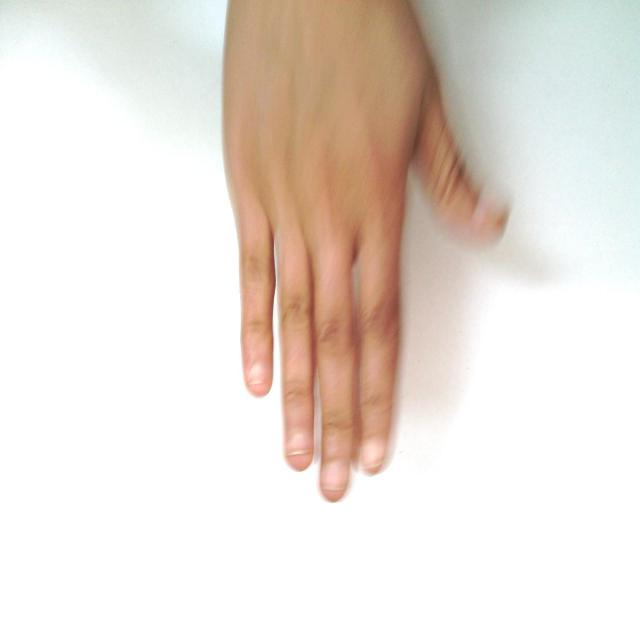others: (171, 1, 611, 502)
